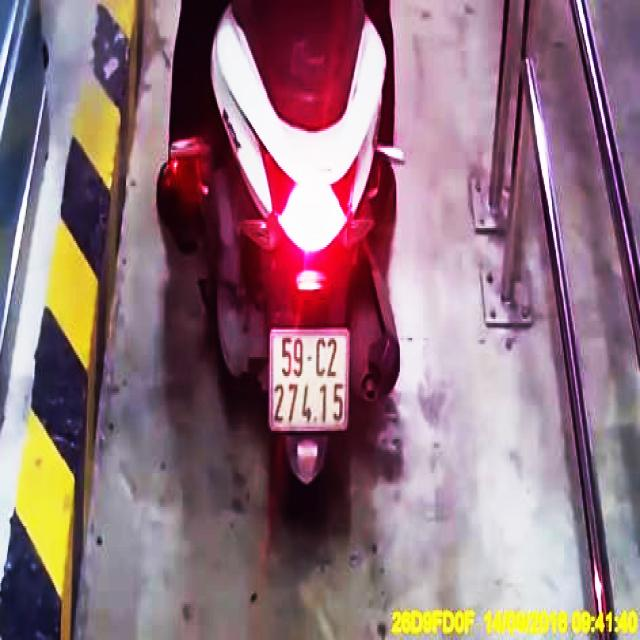license_plate: (271, 332, 347, 432)
